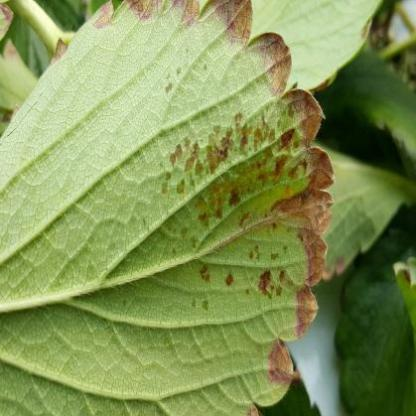Strawberry_Angular_LeafSpot: (152, 44, 328, 322)
